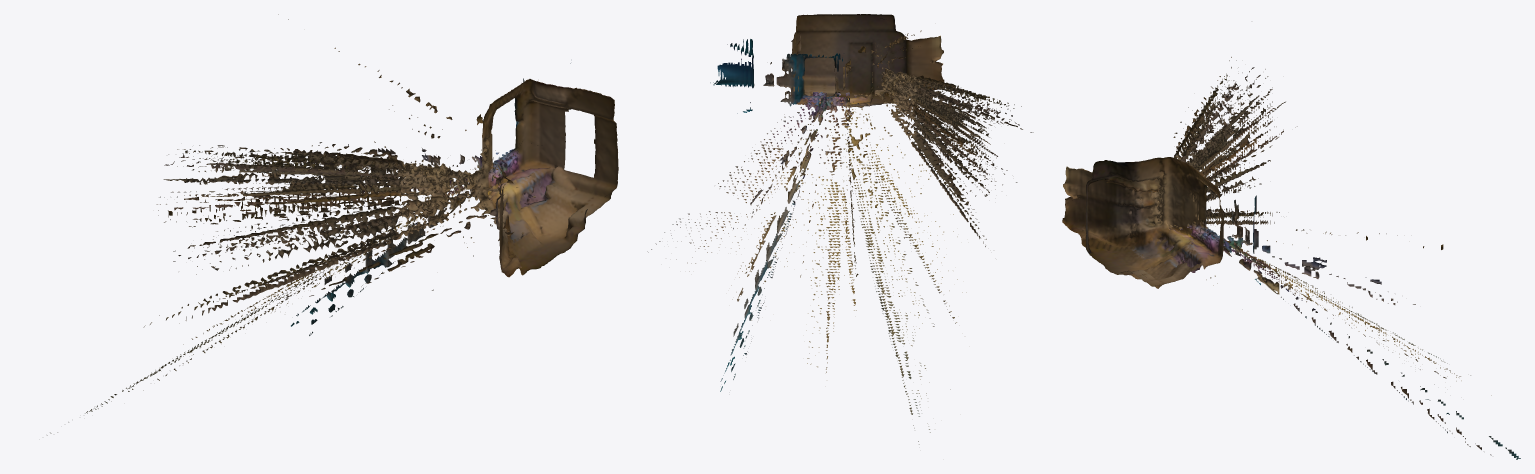
File: Cramped_Urban_Apartment_Night_collider.glb
3 renders of one model, left to right at view 1: azimuth 30°, elevation 25°; view 2: azimuth 150°, elevation 25°; view 3: azimuth 270°, elevation 25°, orthographic. The views are drawn at different scales.
Visible parts, largest first — view 1: world; view 2: world; view 3: world.
Part boxes in pixels (x1=…): world: x1=47, y1=14, x2=618, y2=435; world: x1=647, y1=14, x2=1033, y2=444; world: x1=1062, y1=57, x2=1520, y2=459.
Size of the model in its own units: 13.8 by 14.84 by 14.92.
